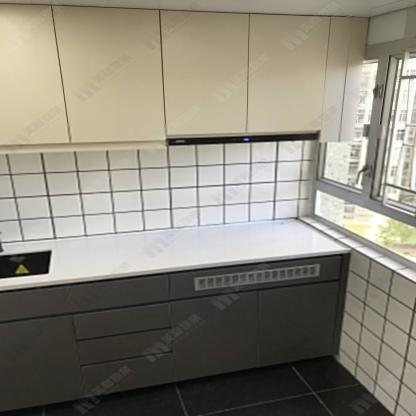Cupboard: (0, 4, 377, 150), (1, 256, 347, 413)
Exhaust Hood: (168, 133, 318, 145)
